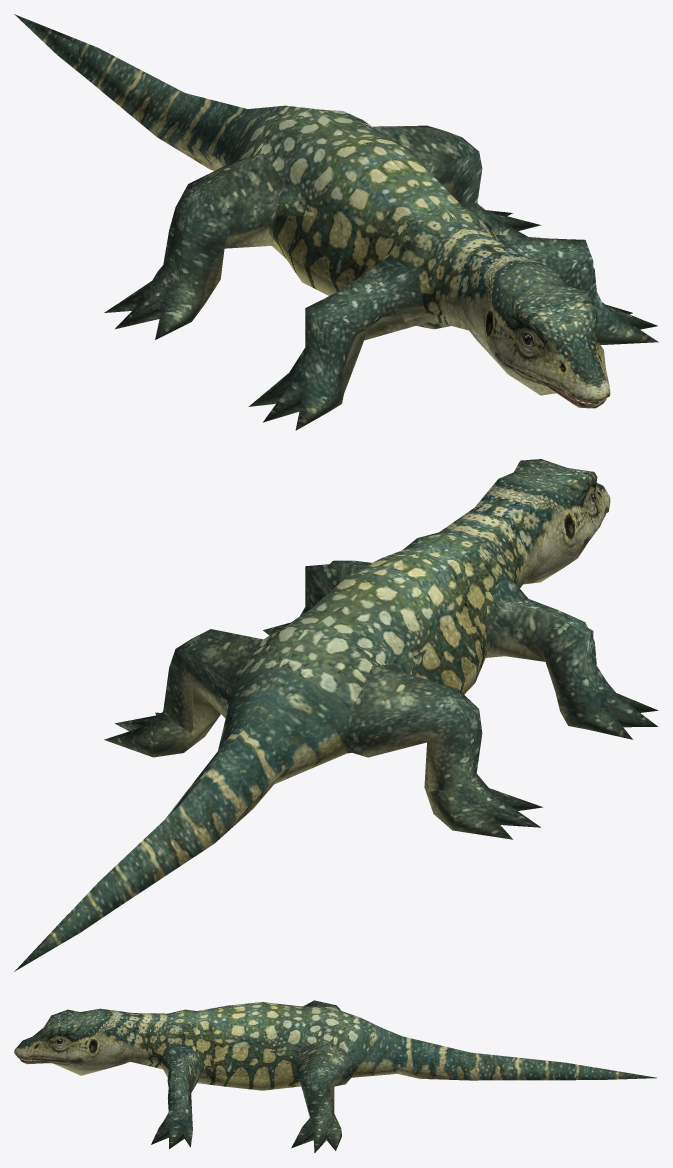
The model's file is adult.obj.
3 views of the same model, one above another, from view 1: azimuth 30°, elevation 25°; view 2: azimuth 150°, elevation 25°; view 3: azimuth 270°, elevation 25° (orthographic). The views are drawn at different scales.
Visible parts, largest first — view 1: Editable_Mesh.000_Editable_Mesh.048, Editable_Mesh.001_Editable_Mesh.049, Editable_Mesh.047; view 2: Editable_Mesh.000_Editable_Mesh.048, Editable_Mesh.047, Editable_Mesh.001_Editable_Mesh.049; view 3: Editable_Mesh.000_Editable_Mesh.048, Editable_Mesh.001_Editable_Mesh.049, Editable_Mesh.047.
Boxes of the visible parts, bbox=[...] form: Editable_Mesh.000_Editable_Mesh.048: bbox=[14, 14, 658, 430]; Editable_Mesh.001_Editable_Mesh.049: bbox=[17, 15, 603, 403]; Editable_Mesh.047: bbox=[151, 109, 656, 421]; Editable_Mesh.000_Editable_Mesh.048: bbox=[15, 459, 658, 970]; Editable_Mesh.047: bbox=[106, 459, 657, 842]; Editable_Mesh.001_Editable_Mesh.049: bbox=[14, 459, 605, 971]; Editable_Mesh.000_Editable_Mesh.048: bbox=[14, 1002, 656, 1152]; Editable_Mesh.001_Editable_Mesh.049: bbox=[16, 1000, 652, 1107]; Editable_Mesh.047: bbox=[18, 1006, 469, 1150].
Bounding box in the file's own units: 1.21 × 0.4504 × 2.88.
3 materials, 3 textured.
